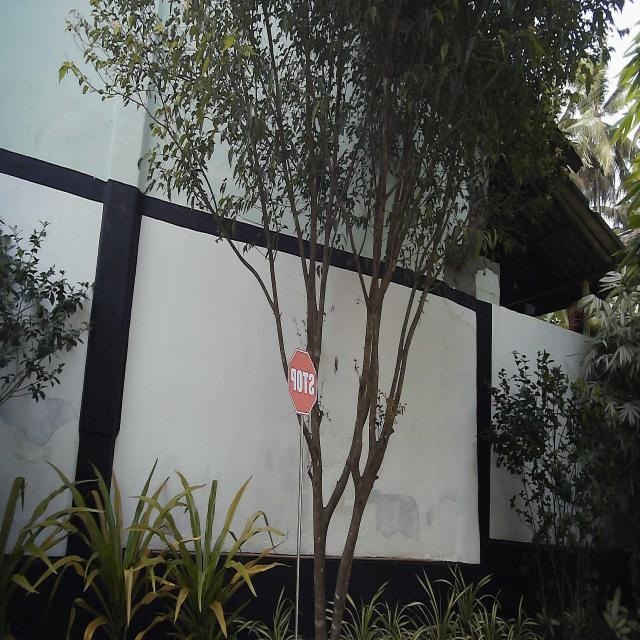stop: (287, 347, 318, 417)
